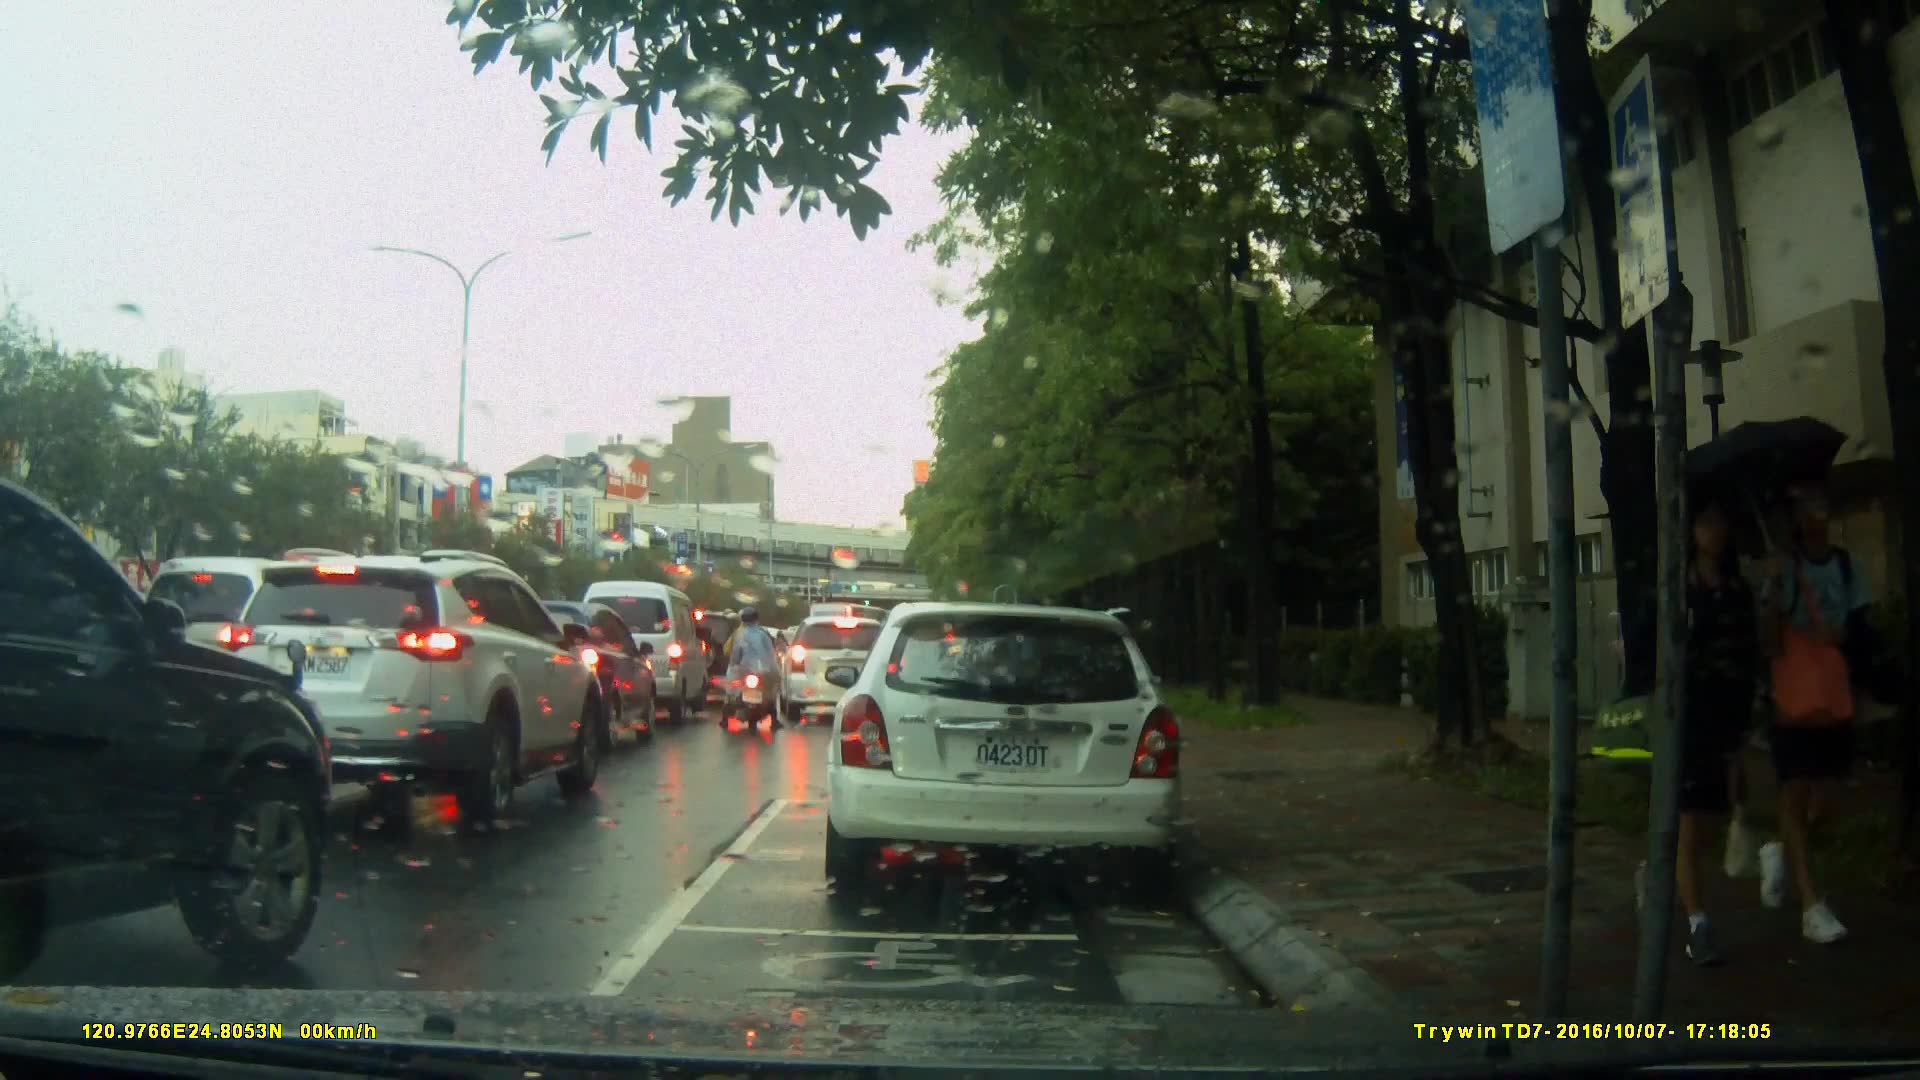pedestrian: (1613, 461, 1765, 982), (1750, 460, 1864, 953)
rider: (719, 605, 782, 732)
vehicle: (1, 471, 330, 987), (815, 593, 1204, 909), (198, 546, 614, 826), (127, 553, 329, 732), (463, 599, 657, 758), (572, 580, 711, 727), (779, 615, 910, 723), (656, 607, 765, 710)
